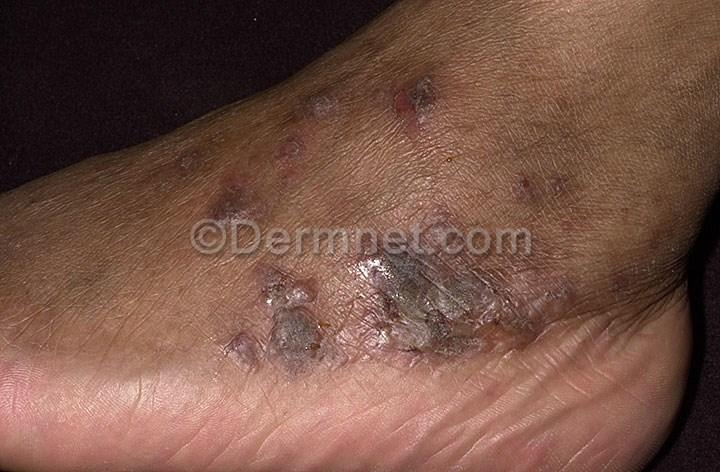Eczema: (225, 257, 320, 376), (475, 271, 579, 378), (526, 67, 624, 151), (326, 302, 416, 392), (417, 285, 504, 373), (196, 176, 268, 278), (350, 229, 455, 298), (580, 258, 672, 336), (389, 54, 465, 140), (259, 116, 330, 207), (401, 175, 490, 247), (301, 64, 370, 142), (48, 247, 128, 310), (462, 229, 555, 283), (511, 133, 578, 207), (539, 216, 614, 275), (157, 123, 226, 184), (631, 193, 692, 258), (355, 19, 403, 54), (472, 30, 473, 31)
